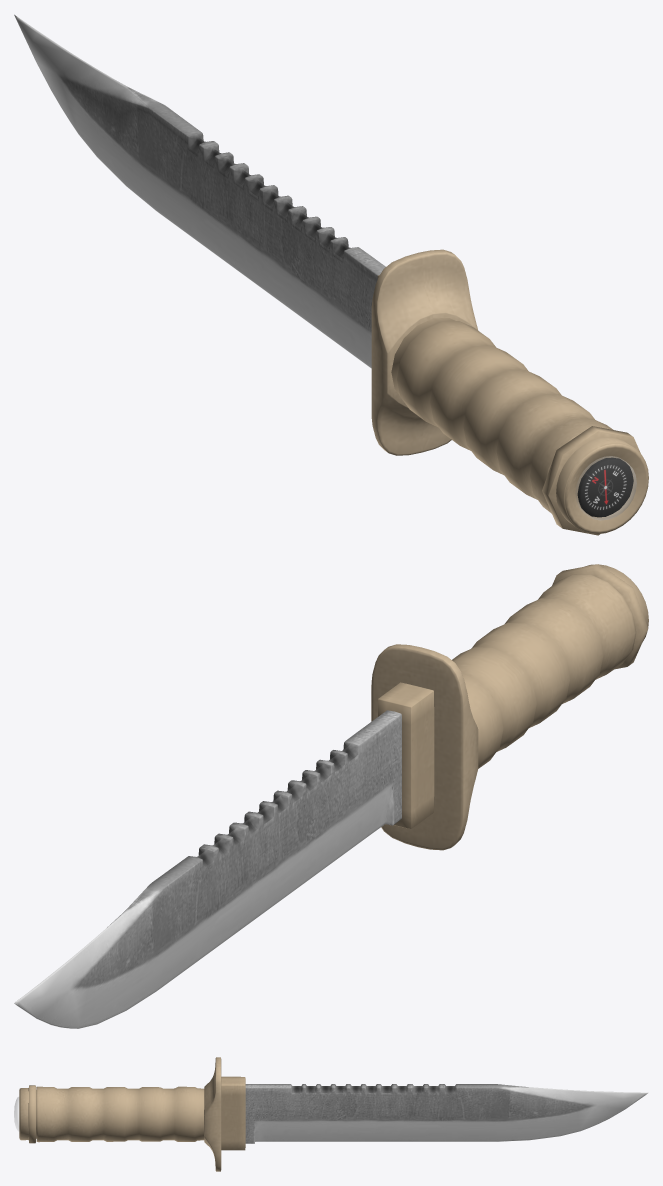
The model's file is survival_knife.glb.
3 views of the same model, one above another, from view 1: azimuth 30°, elevation 25°; view 2: azimuth 150°, elevation 25°; view 3: azimuth 270°, elevation 25° (orthographic). The views are drawn at different scales.
Parts seen in each view (by area): view 1: Hoja _6, Mango_3, Guardamano_7, Tapa_1, T-Brujula_0, Brujula_5, Tuerca_2; view 2: Hoja _6, Mango_3, Guardamano_7, Defensa_4, Tuerca_2; view 3: Hoja _6, Mango_3, Defensa_4, Guardamano_7, Tapa_1, Tuerca_2.
Part boxes in pixels (x1=…): Hoja _6: x1=14, y1=14, x2=385, y2=368; Mango_3: x1=391, y1=318, x2=613, y2=513; Guardamano_7: x1=371, y1=249, x2=478, y2=455; Tapa_1: x1=556, y1=437, x2=648, y2=534; T-Brujula_0: x1=575, y1=456, x2=636, y2=520; Brujula_5: x1=577, y1=457, x2=633, y2=517; Tuerca_2: x1=542, y1=426, x2=640, y2=535; Hoja _6: x1=14, y1=710, x2=401, y2=1028; Mango_3: x1=452, y1=574, x2=636, y2=768; Guardamano_7: x1=371, y1=644, x2=478, y2=850; Defensa_4: x1=377, y1=682, x2=434, y2=828; Tuerca_2: x1=552, y1=564, x2=648, y2=669; Hoja _6: x1=245, y1=1084, x2=648, y2=1143; Mango_3: x1=36, y1=1086, x2=204, y2=1142; Defensa_4: x1=221, y1=1076, x2=245, y2=1150; Guardamano_7: x1=204, y1=1057, x2=221, y2=1171; Tapa_1: x1=19, y1=1088, x2=28, y2=1140; Tuerca_2: x1=28, y1=1085, x2=36, y2=1143.
Bounding box in the file's own units: 0.5256 × 0.9848 × 5.43.
Materials: 4 (3 with a texture image).
